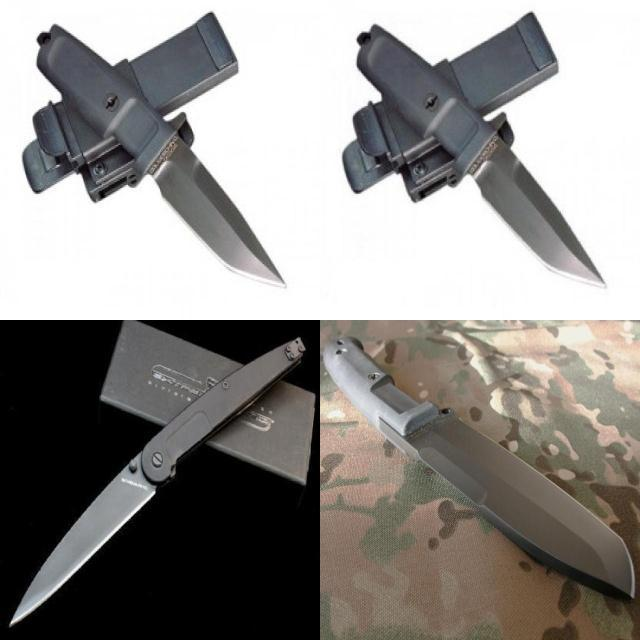-: (389, 396, 639, 612), (6, 447, 156, 633), (142, 127, 289, 289), (462, 127, 609, 289)
